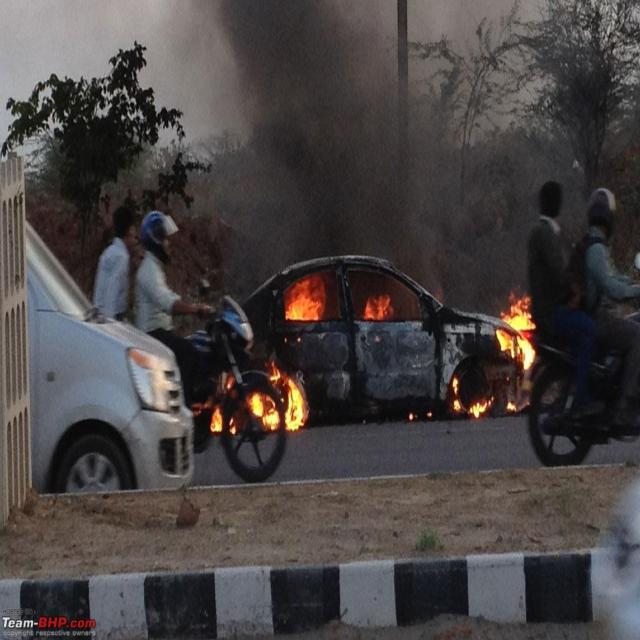accident: (244, 257, 522, 424)
car: (25, 222, 194, 492)
motorcycle: (136, 214, 285, 481)
